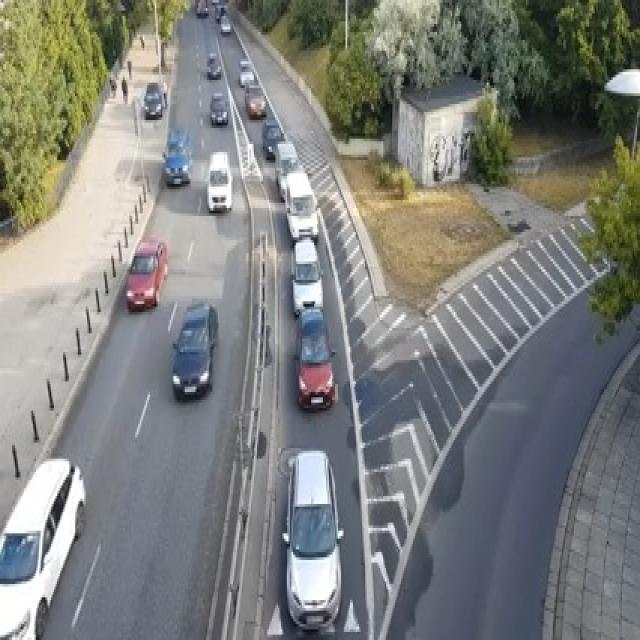car: (0, 456, 86, 637), (281, 448, 344, 629), (171, 302, 218, 398), (293, 306, 335, 411), (125, 238, 167, 310), (290, 234, 323, 314), (284, 168, 318, 243), (162, 125, 192, 184), (206, 149, 231, 211), (275, 139, 299, 200), (261, 117, 284, 160), (245, 80, 266, 117), (143, 80, 162, 117), (209, 91, 228, 125), (206, 51, 221, 77), (239, 59, 254, 85), (158, 80, 167, 107), (220, 13, 232, 32), (195, 0, 208, 16), (215, 3, 224, 21), (210, 0, 221, 3)
